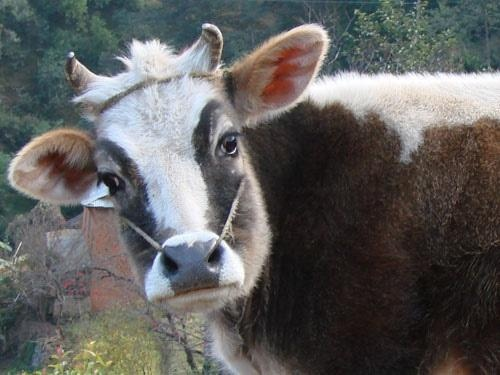cow: (10, 23, 500, 374)
